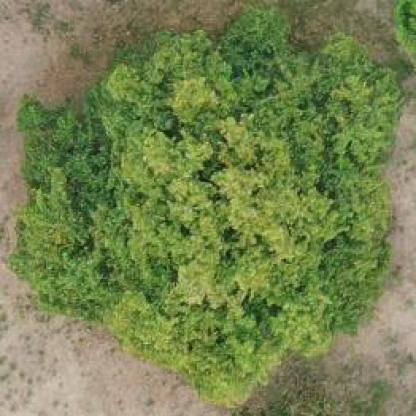Coniferous Tree: (13, 2, 401, 382)
